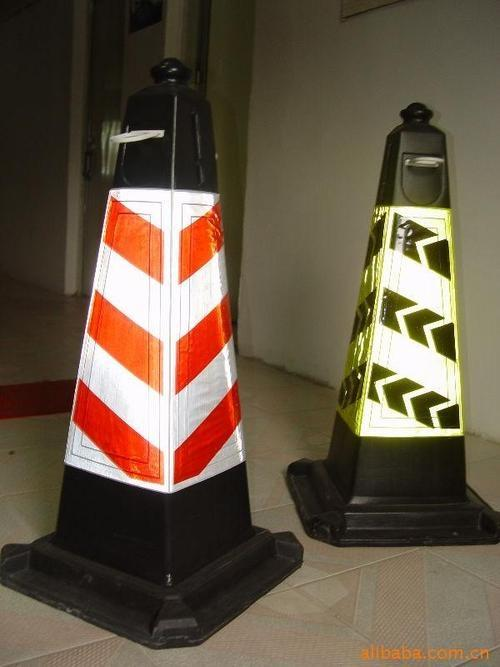cone_barrel: (34, 89, 277, 601), (289, 101, 479, 541)
